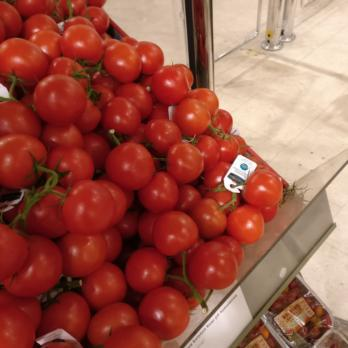Tomato-: (0, 0, 116, 348), (116, 45, 199, 348), (220, 147, 279, 249), (198, 90, 219, 289)
